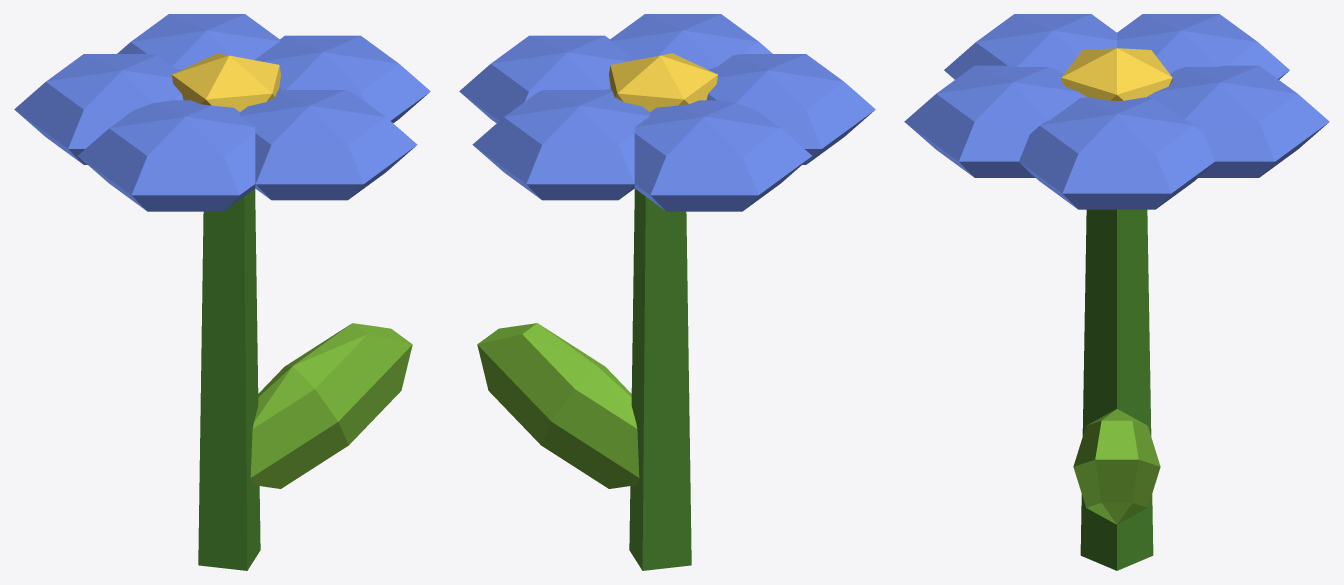
Rendered from flower_blue.glb.
3 views of the same model, side by side, from view 1: azimuth 30°, elevation 25°; view 2: azimuth 150°, elevation 25°; view 3: azimuth 270°, elevation 25° (orthographic).
Parts seen in each view (by area): view 1: flower_blue; view 2: flower_blue; view 3: flower_blue.
Boxes of the visible parts, x1,y1,x2,y2 form: flower_blue: (14, 14, 430, 570); flower_blue: (459, 14, 875, 570); flower_blue: (904, 14, 1329, 570).
Size of the model in its own units: 0.3984 by 0.5775 by 0.439.
